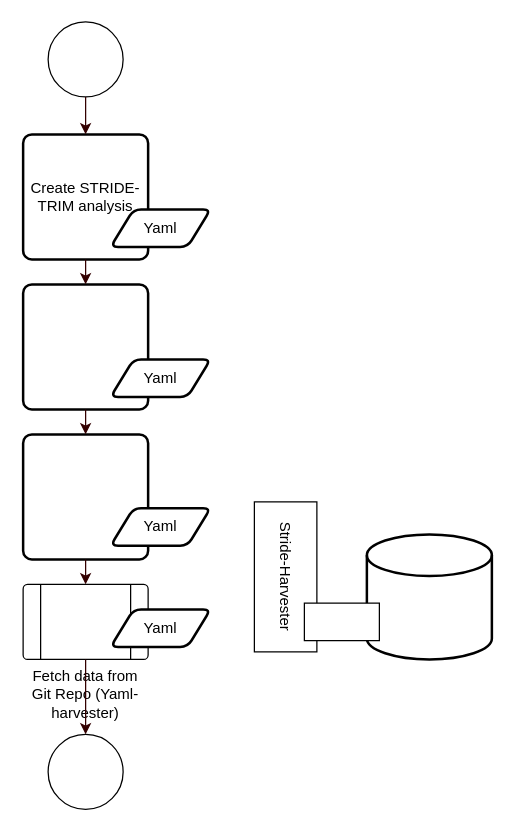
Some shapes in this 514 by 831 pixel diagram are drawn without their labels. The box of each missing label's shape, as (x1, y1, x2, y2) in pixels:
SP: (303, 602, 379, 641)
Store in Git: (21, 432, 149, 560)
Threat database: (365, 532, 492, 660)
Update STRIDE-TRIM analysis: (21, 282, 149, 410)
